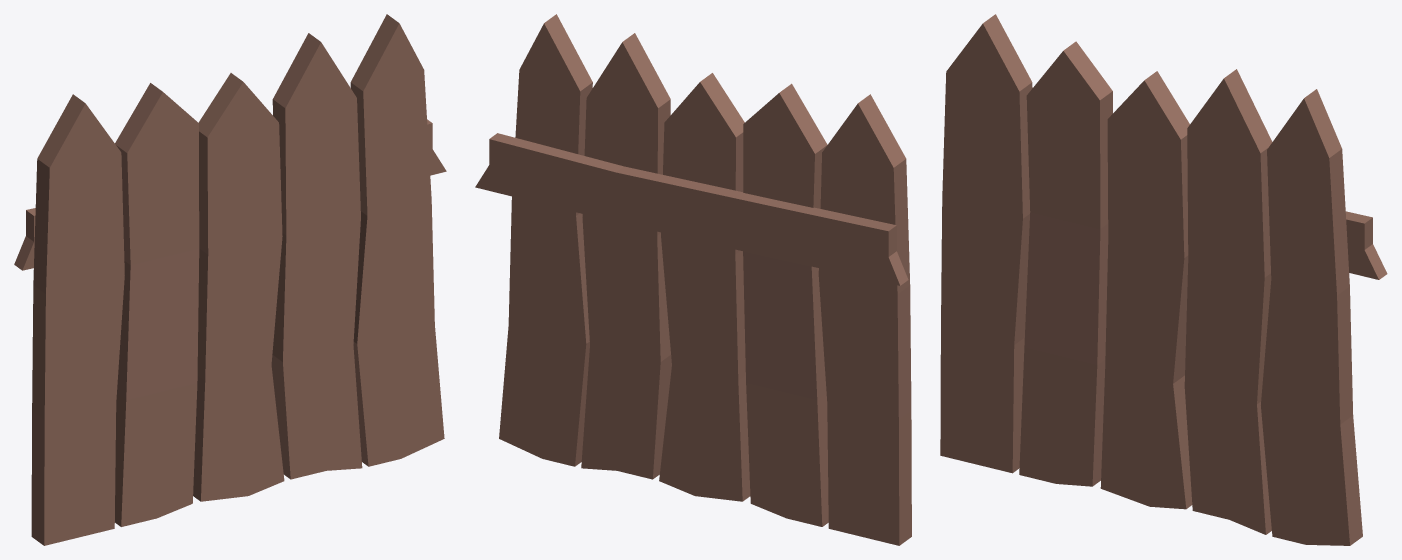
File: WoodenFence_01.fbx
The picture shows the model from 3 angles, left to right: view 1: azimuth 30°, elevation 25°; view 2: azimuth 150°, elevation 25°; view 3: azimuth 330°, elevation 25°; orthographic projection. The views are drawn at different scales.
Parts seen in each view (by area): view 1: WoodenFence_01; view 2: WoodenFence_01; view 3: WoodenFence_01.
Part boxes in pixels (x1,y1,x2,y2): WoodenFence_01: [14, 14, 446, 545]; WoodenFence_01: [475, 14, 911, 545]; WoodenFence_01: [940, 14, 1387, 545].
Bounding box in the file's own units: 326 × 320 × 28.25.
